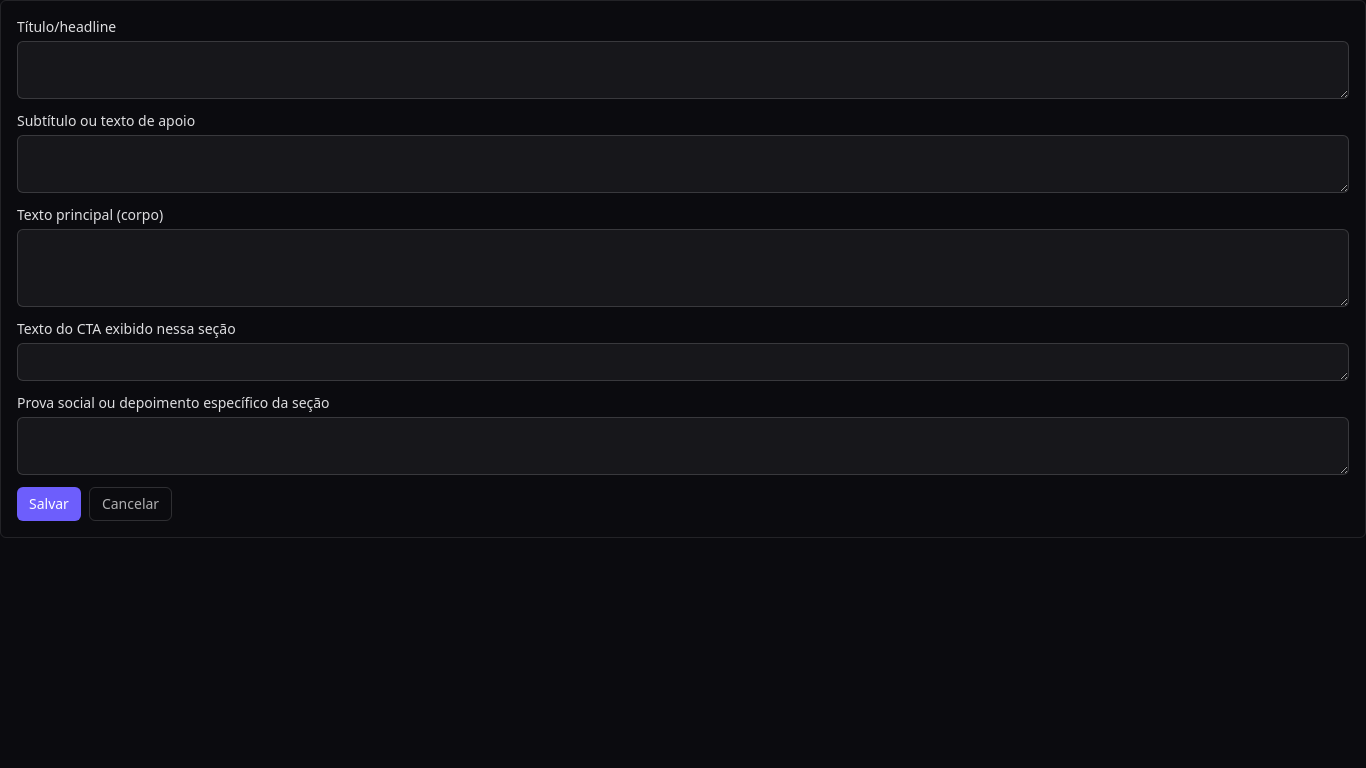
Test case: SectionEditForm › shows the ineligibility reason returned by the action
The width and height of the screenshot is (1366, 768).
Step 1. Click the button "Salvar" → (49, 504), box [17,487,81,521]
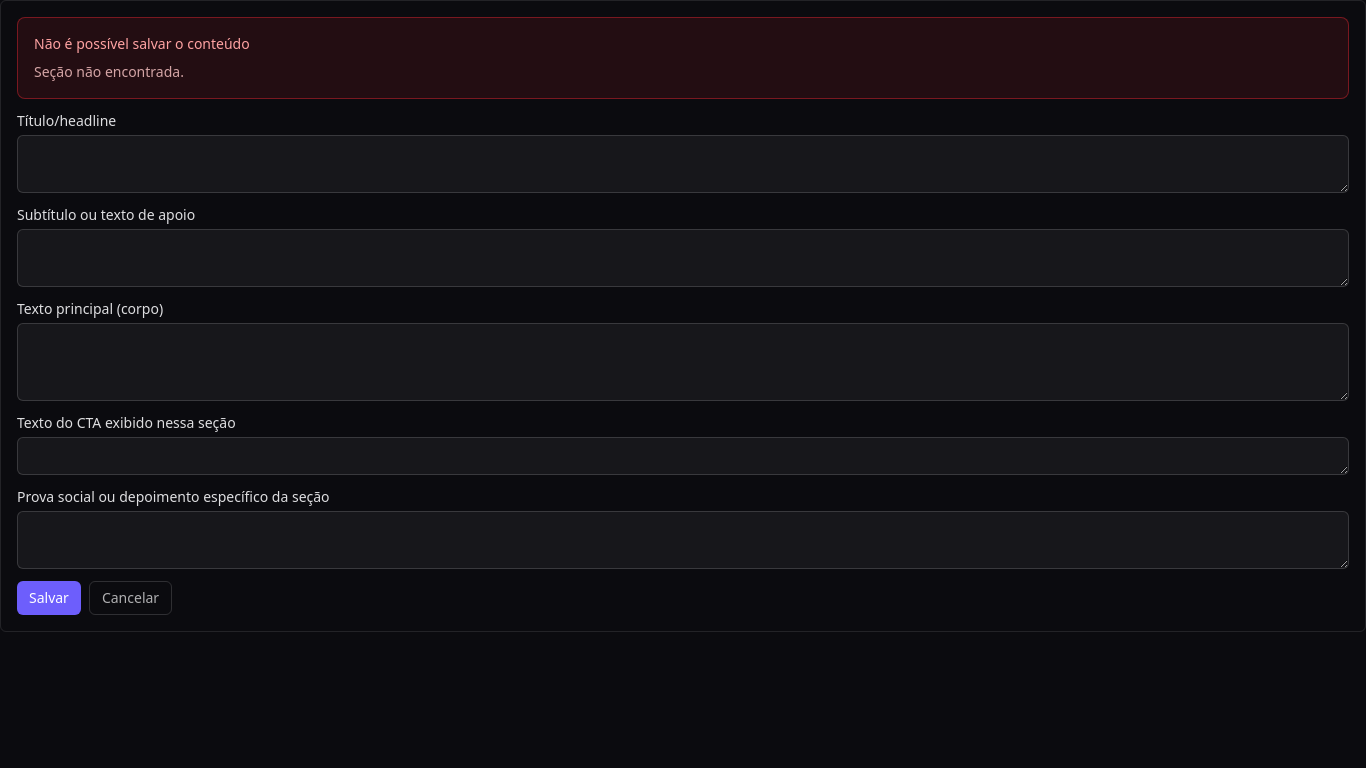
Expected: the text "Seção não encontrada." is shown, [34,62,184,82]
